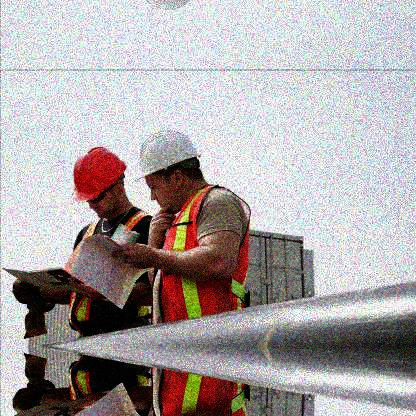helmet: (132, 129, 201, 215), (69, 146, 128, 220)
